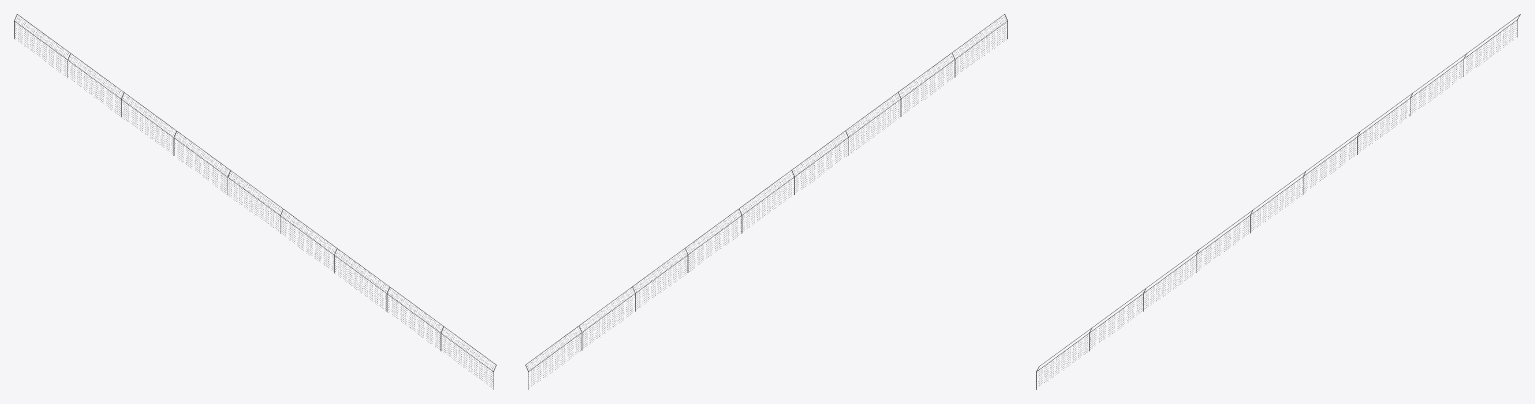
The model's file is M10_Z1_ChainFence04.glb.
The picture shows the model from 3 angles, left to right: view 1: azimuth 30°, elevation 25°; view 2: azimuth 150°, elevation 25°; view 3: azimuth 330°, elevation 25°; orthographic projection.
Visible parts, largest first — view 1: M10_Z1_CHAINFENCE04; view 2: M10_Z1_CHAINFENCE04; view 3: M10_Z1_CHAINFENCE04.
Part boxes in pixels (box(x1,y1,x2,y2)): M10_Z1_CHAINFENCE04: box(14, 14, 496, 389); M10_Z1_CHAINFENCE04: box(525, 14, 1007, 389); M10_Z1_CHAINFENCE04: box(1036, 14, 1520, 389).
Bounding box in the file's own units: 0.141 × 1 × 36.02.
Materials: 2 (2 with a texture image).
